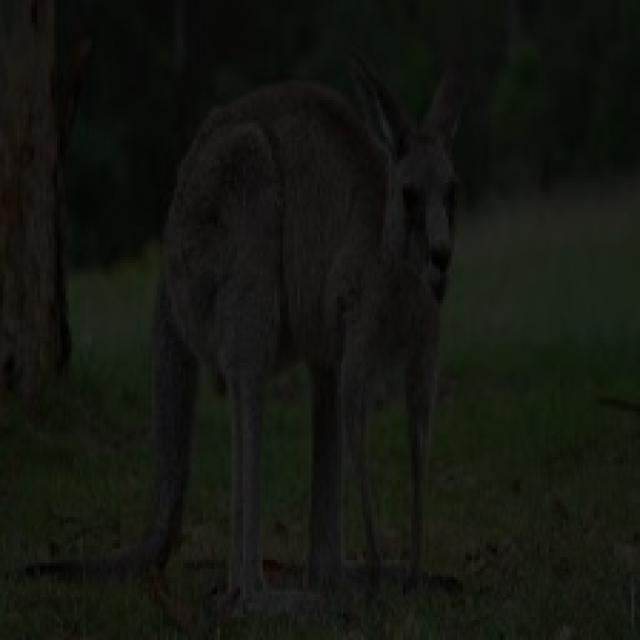bear: (74, 53, 549, 600)
